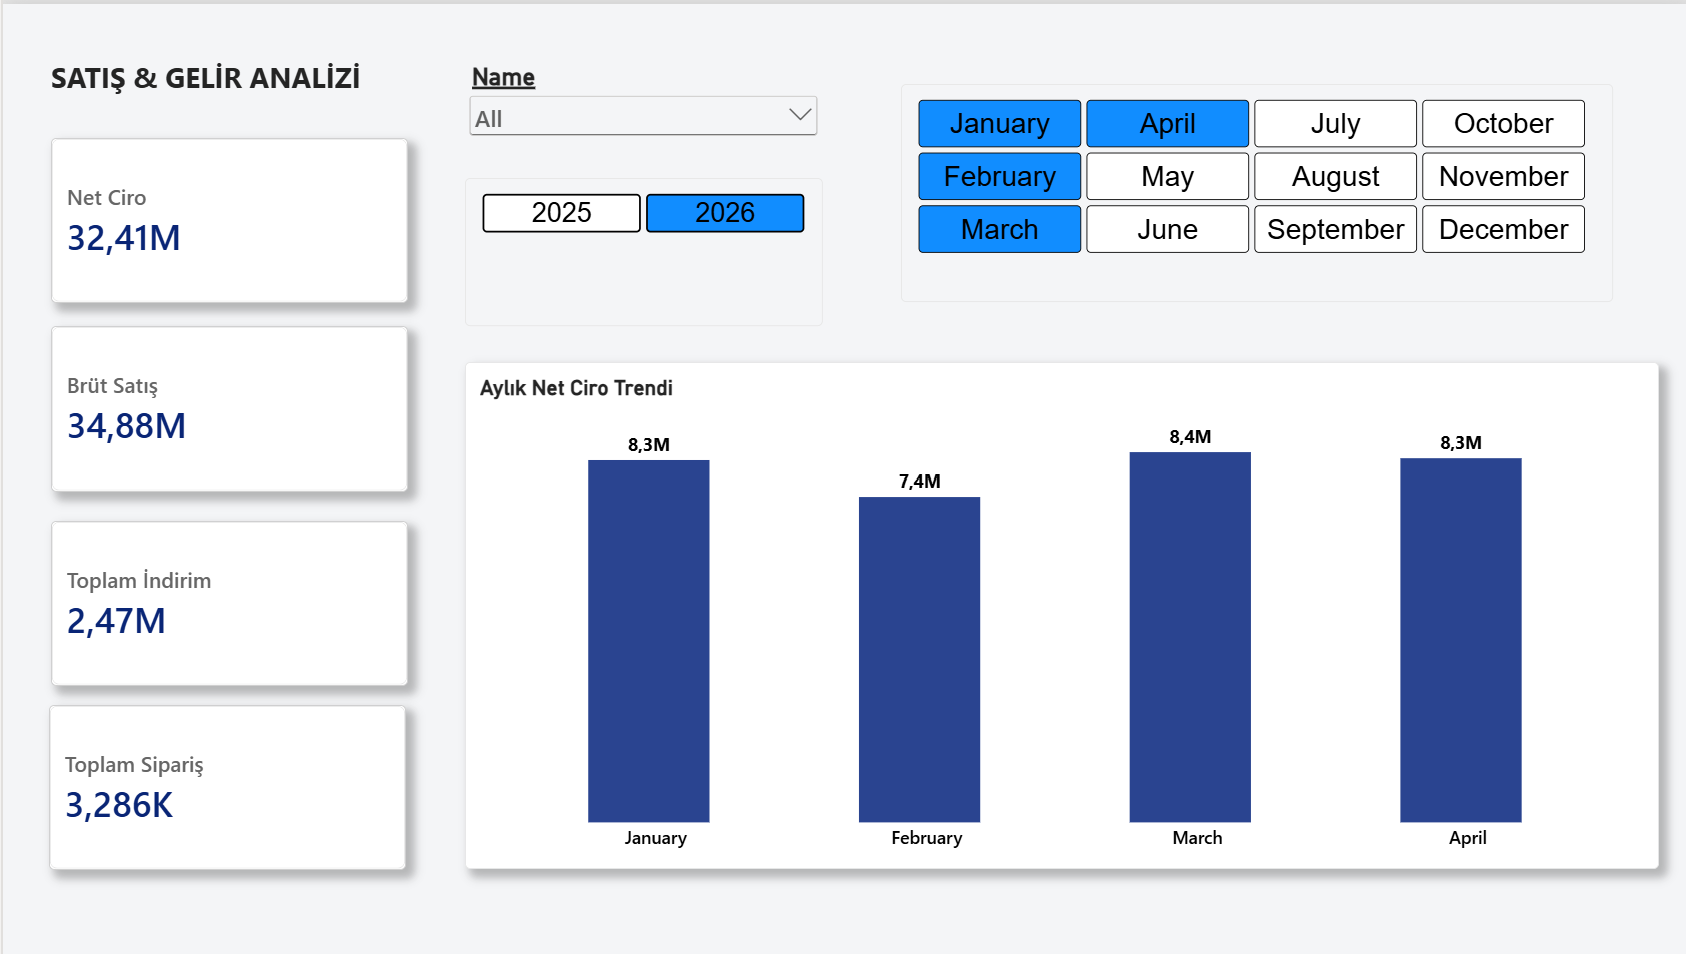

The dashboard page shown, as its layout file describes it:
{"tool":"powerbi","page":{"name":"Page 1","canvas":[1920,1080],"ordinal":0},"visuals":[{"type":"cardVisual","fields":{"Data":["_Measures.Net Ciro"]},"box":[54,153.4,406.2,187.5],"z":0},{"type":"cardVisual","fields":{"Data":["_Measures.Toplam Sipariş"]},"box":[52.3,796.2,406.2,187.5],"z":1000},{"type":"cardVisual","fields":{"Data":["_Measures.Toplam İndirim"]},"box":[54.6,586.9,406.2,187.5],"z":2000},{"type":"cardVisual","fields":{"Data":["_Measures.Brüt Satış"]},"box":[54.6,366.3,406.2,187.5],"z":3000},{"type":"textbox","box":[54,62.5,406.2,56.8],"z":4000},{"type":"ChicletSlicer1448559807354","fields":{"Category":["sales Orders.OrderDate.Variation.Date Hierarchy.Year"]},"box":[525.5,197.9,407.2,168.3],"z":5000},{"type":"ChicletSlicer1448559807354","fields":{"Category":["sales Orders.OrderDate.Variation.Date Hierarchy.Month"]},"box":[1021.4,91,809.9,248],"z":6000},{"type":"slicer","fields":{"Values":["sales Customers.FirstName"]},"box":[525.5,66,406.2,107.9],"z":7000},{"type":"lineClusteredColumnComboChart","title":"Aylık Net Ciro Trendi","fields":{"Category":["sales Orders.OrderDate.Variation.Date Hierarchy.Month"],"Y":["_Measures.Net Ciro"]},"box":[525.5,407.2,1358.1,575.5],"z":8000}]}

Visuals, with their boxes in screenshot pixels (x1, y1, x2, y2), scaled from the page's 1920x1080 canvas onto the 1686x954 screenshot:
cardVisual - _Measures.Net Ciro: 47,136,404,301
cardVisual - _Measures.Toplam Sipariş: 46,703,403,869
cardVisual - _Measures.Toplam İndirim: 48,518,405,684
cardVisual - _Measures.Brüt Satış: 48,324,405,489
textbox: 47,55,404,105
ChicletSlicer1448559807354 - sales Orders.OrderDate.Variation.Date Hierarchy.Year: 461,175,819,323
ChicletSlicer1448559807354 - sales Orders.OrderDate.Variation.Date Hierarchy.Month: 897,80,1608,299
slicer - sales Customers.FirstName: 461,58,818,154
"Aylık Net Ciro Trendi" lineClusteredColumnComboChart: 461,360,1654,868
